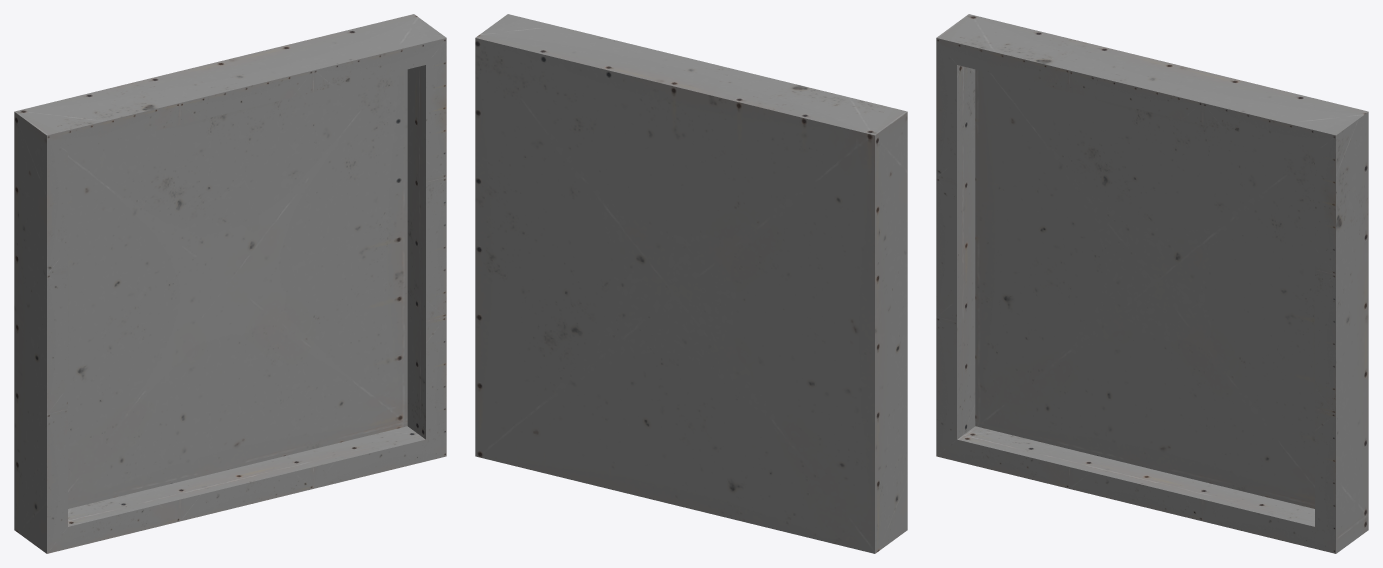
File: Air_Duct_EndCap.fbx
3 renders of one model, left to right at view 1: azimuth 30°, elevation 25°; view 2: azimuth 150°, elevation 25°; view 3: azimuth 330°, elevation 25°, orthographic.
Parts seen in each view (by area): view 1: Air_Duct_EndCap; view 2: Air_Duct_EndCap; view 3: Air_Duct_EndCap.
Part boxes in pixels (<box>): Air_Duct_EndCap: <box>14,14,446,553</box>; Air_Duct_EndCap: <box>475,14,907,553</box>; Air_Duct_EndCap: <box>936,14,1368,553</box>.
Size of the model in its own units: 134 by 134 by 18.98.
